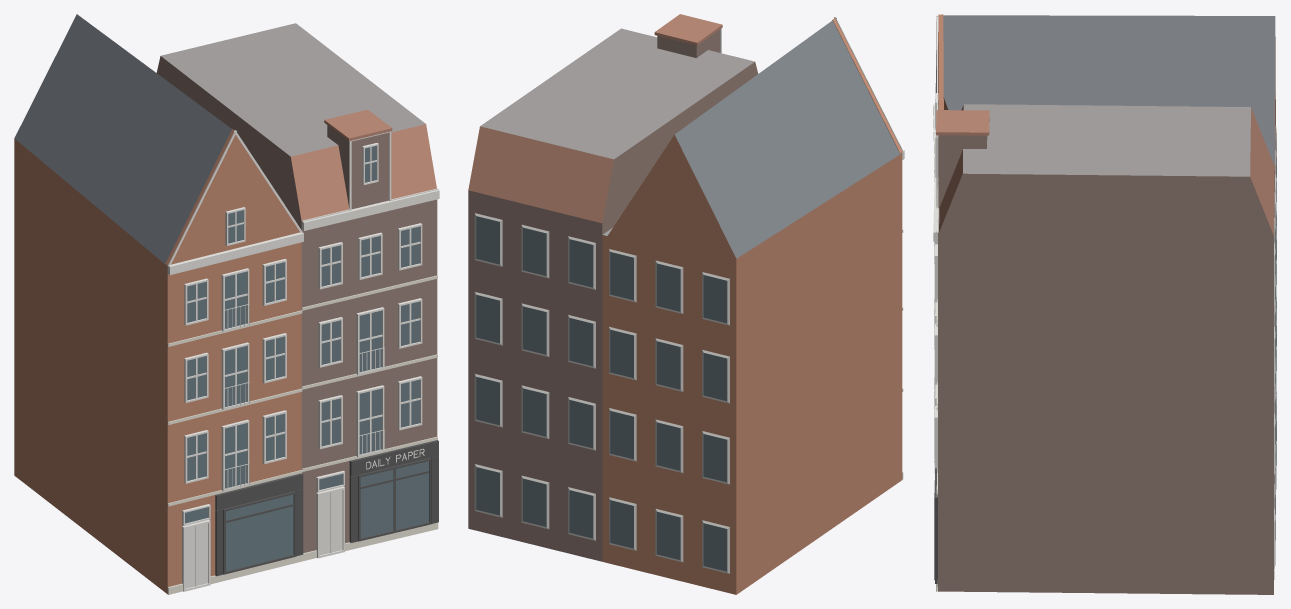
Rendered from chunk-face-bilder-157757-164549.glb.
3 renders of one model, left to right at view 1: azimuth 30°, elevation 25°; view 2: azimuth 150°, elevation 25°; view 3: azimuth 270°, elevation 25°, orthographic. The views are drawn at different scales.
Visible parts, largest first — view 1: face-bilder-157757-164549; view 2: face-bilder-157757-164549; view 3: face-bilder-157757-164549.
Part boxes in pixels (<box>): face-bilder-157757-164549: <box>14,14,439,594</box>; face-bilder-157757-164549: <box>468,14,904,594</box>; face-bilder-157757-164549: <box>933,14,1276,594</box>.
Size of the model in its own units: 12.13 by 18.77 by 12.36.
